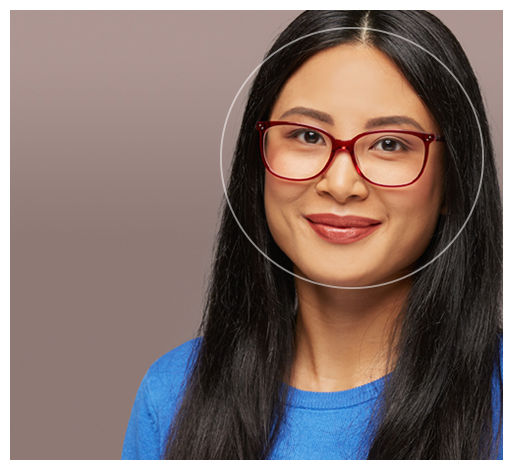sunglasses: (242, 107, 466, 207)
